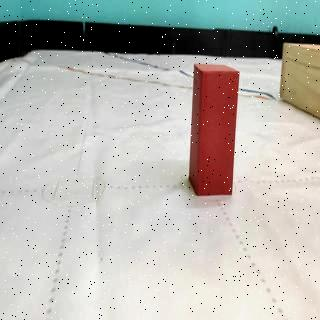redbox: (188, 63, 240, 195)
